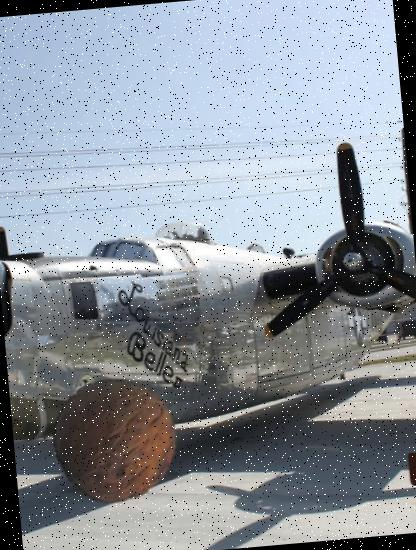Walnut: (50, 372, 184, 506)
